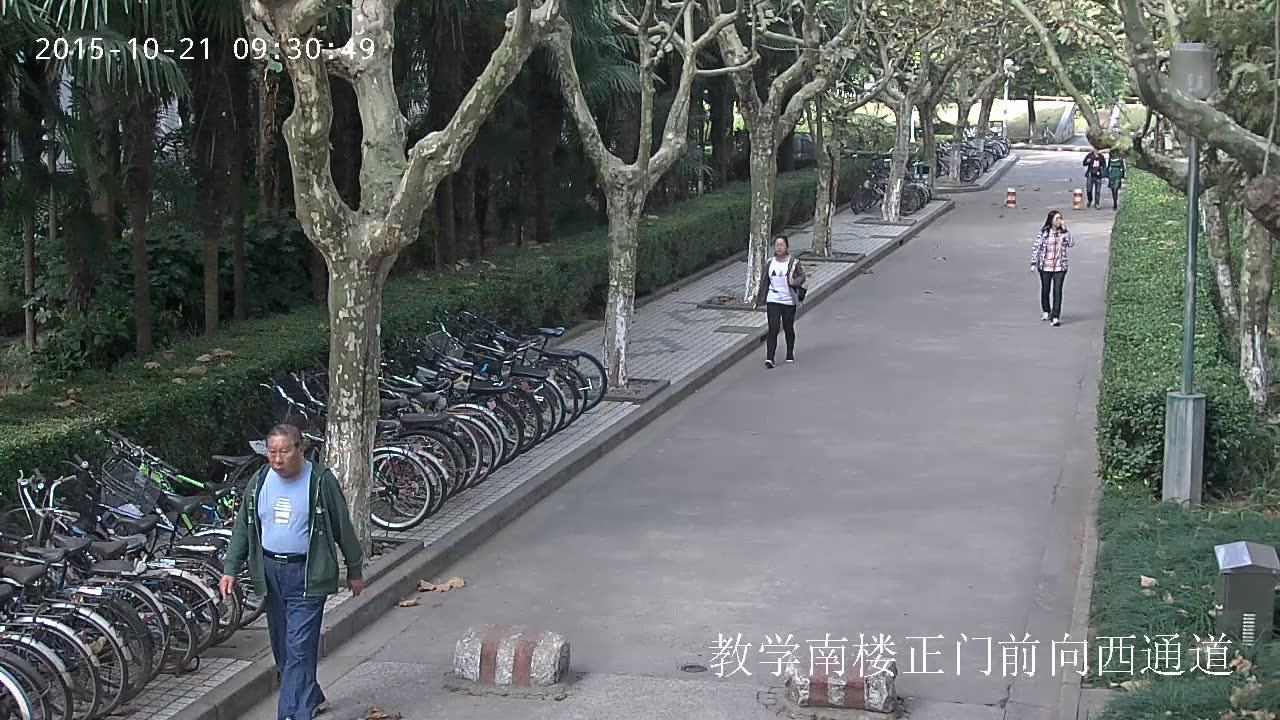person: (218, 422, 364, 720), (753, 235, 807, 368), (1030, 210, 1074, 325), (1082, 145, 1105, 210), (1106, 152, 1125, 209)
